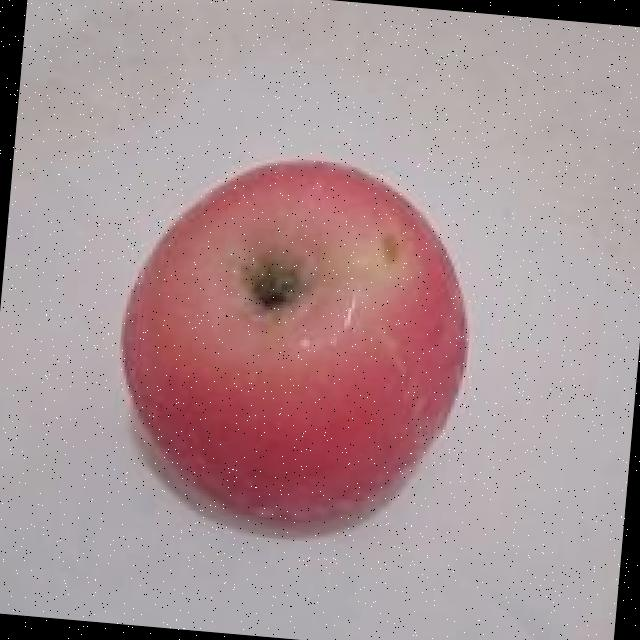apple: (68, 98, 548, 580)
